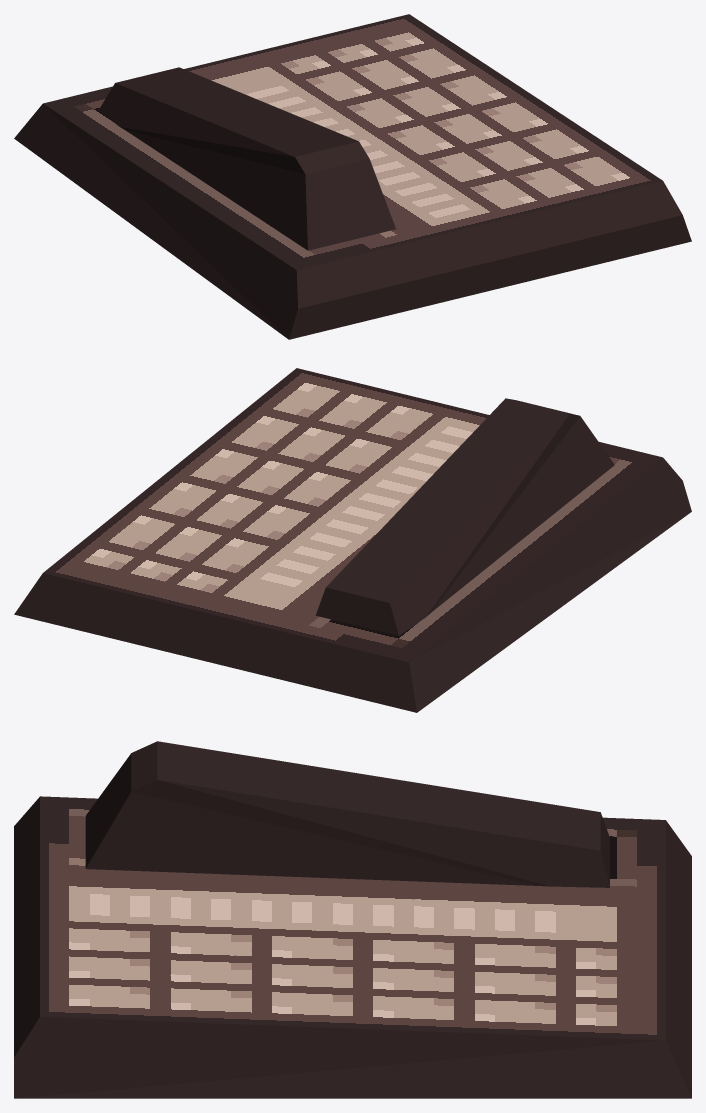
3 views of the same model, one above another, from view 1: azimuth 30°, elevation 25°; view 2: azimuth 150°, elevation 25°; view 3: azimuth 270°, elevation 25° (orthographic). The views are drawn at different scales.
Parts seen in each view (by area): view 1: ss3d_00_phone; view 2: ss3d_00_phone; view 3: ss3d_00_phone.
Part boxes in pixels (x1,y1,x2,y2): ss3d_00_phone: (14,14,691,339); ss3d_00_phone: (14,368,691,712); ss3d_00_phone: (14,741,691,1098).
Size of the model in its own units: 0.3438 by 0.1016 by 0.4062.
1 material, 1 textured.
